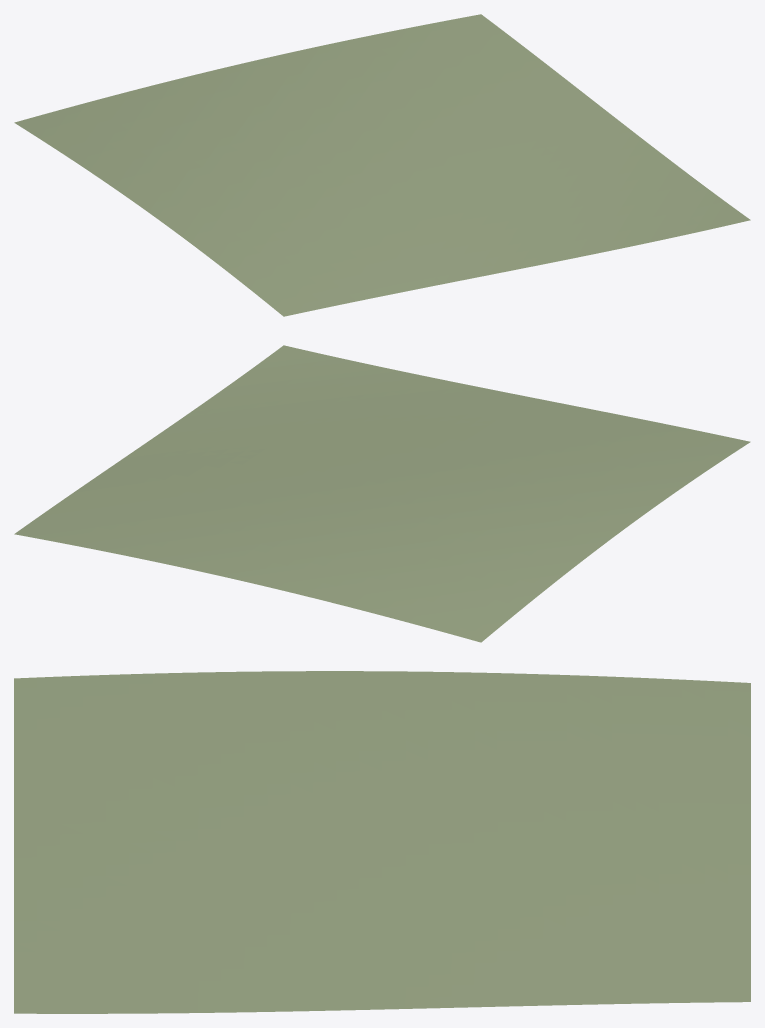
The model's file is alpine-0-7.glb.
3 renders of one model, top to bottom at view 1: azimuth 30°, elevation 25°; view 2: azimuth 150°, elevation 25°; view 3: azimuth 270°, elevation 25°, orthographic. The views are drawn at different scales.
Visible parts, largest first — view 1: alpine-0-7; view 2: alpine-0-7; view 3: alpine-0-7.
Boxes of the visible parts, x1,y1,x2,y2 form: alpine-0-7: (14, 14, 750, 316); alpine-0-7: (14, 345, 750, 642); alpine-0-7: (14, 671, 750, 1013).
Bounding box in the file's own units: 256 × 12.01 × 256.
